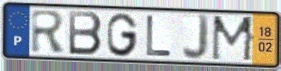B: (67, 9, 104, 57)
G: (105, 11, 140, 58)
J: (180, 13, 211, 63)
L: (145, 14, 174, 58)
M: (210, 14, 257, 64)
R: (30, 8, 68, 54)
